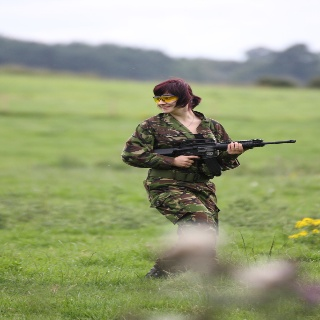rifle: (146, 137, 297, 161)
